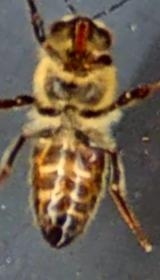varroa_mite: (78, 143, 104, 170)
